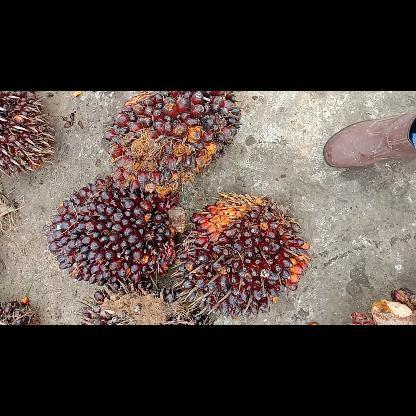Kurang masak: (171, 190, 311, 322), (43, 178, 189, 286), (96, 91, 244, 197)
